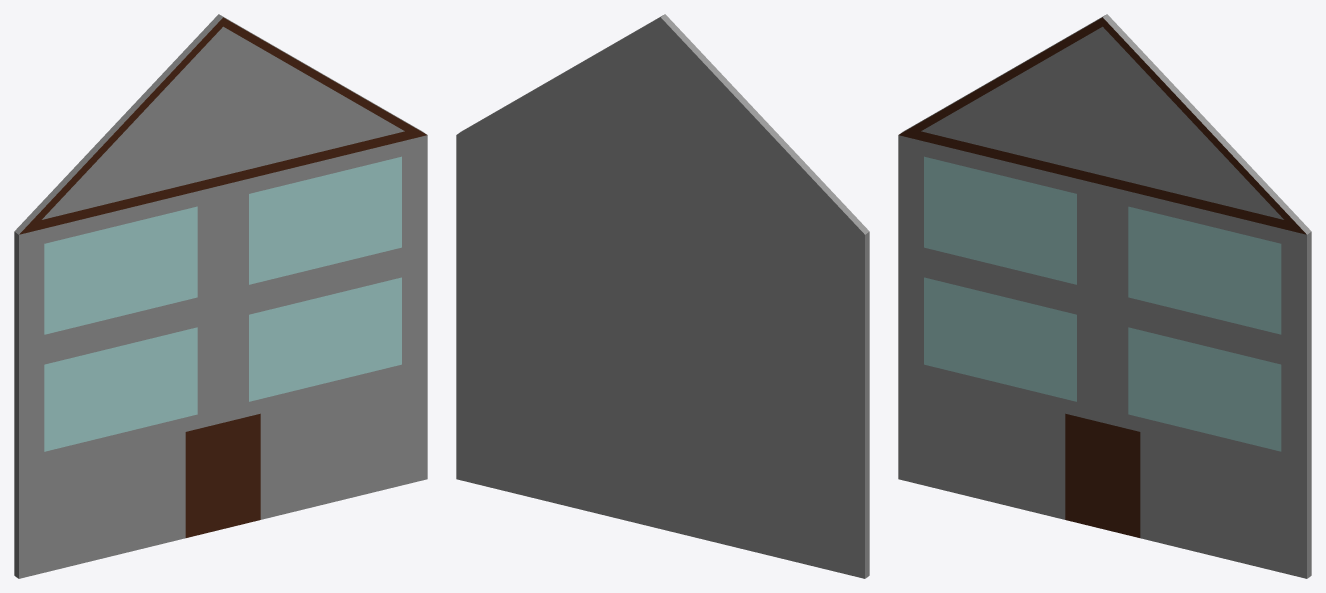
File: ProtoHouse1.fbx
3 renders of one model, left to right at view 1: azimuth 30°, elevation 25°; view 2: azimuth 150°, elevation 25°; view 3: azimuth 330°, elevation 25°, orthographic.
Parts seen in each view (by area): view 1: House; view 2: House; view 3: House.
Part boxes in pixels (box(x1,y1,x2,y2)): House: box(14, 14, 427, 578); House: box(456, 14, 869, 578); House: box(898, 14, 1311, 578).
Bounding box in the file's own units: 124 × 149 × 2.41.
